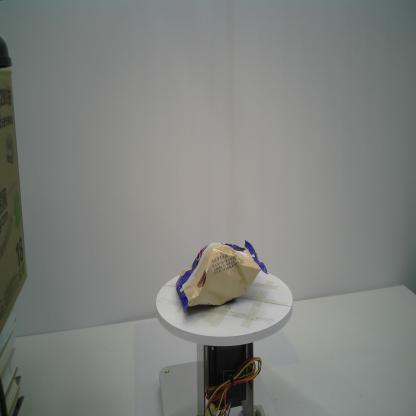Dessert: (175, 238, 268, 314)
